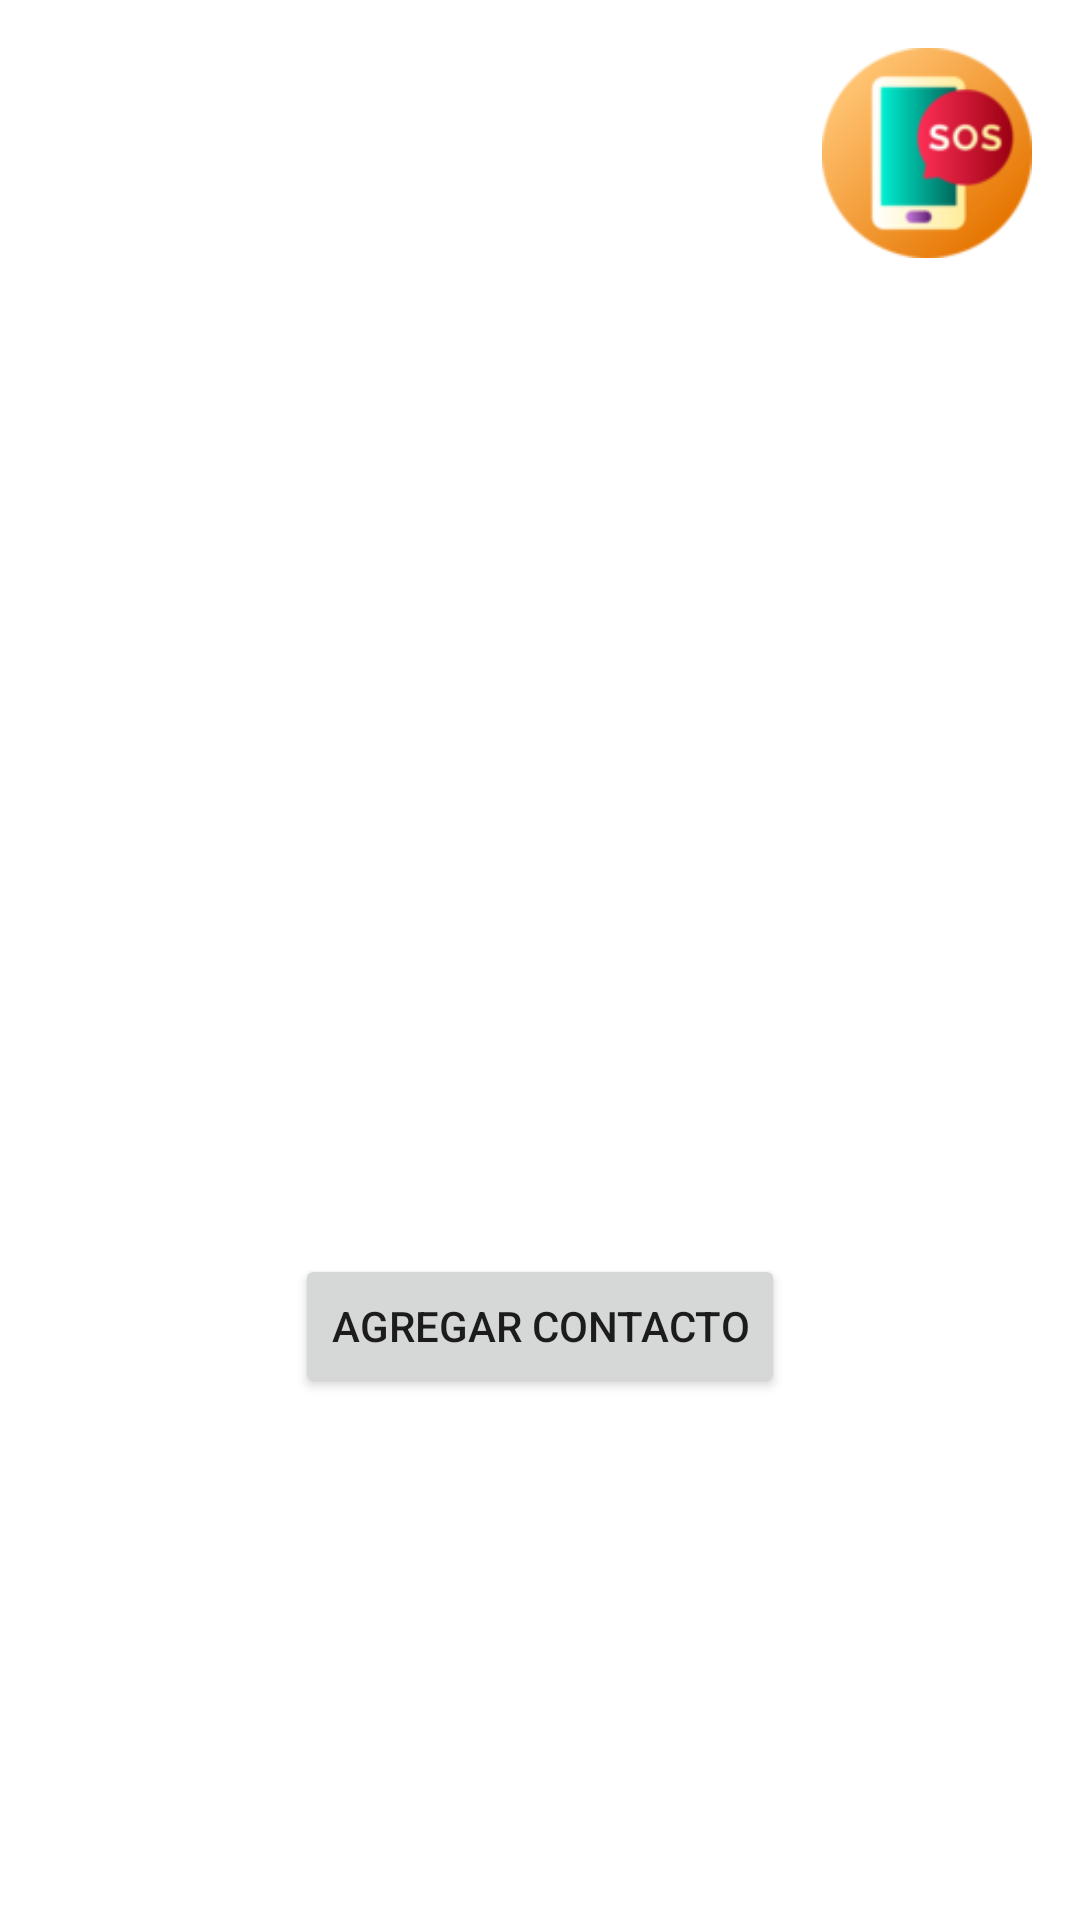

Screen size 1080*1920. Icon name, then its center in pixels as [x,y]:
sosfinder: [927,153]
